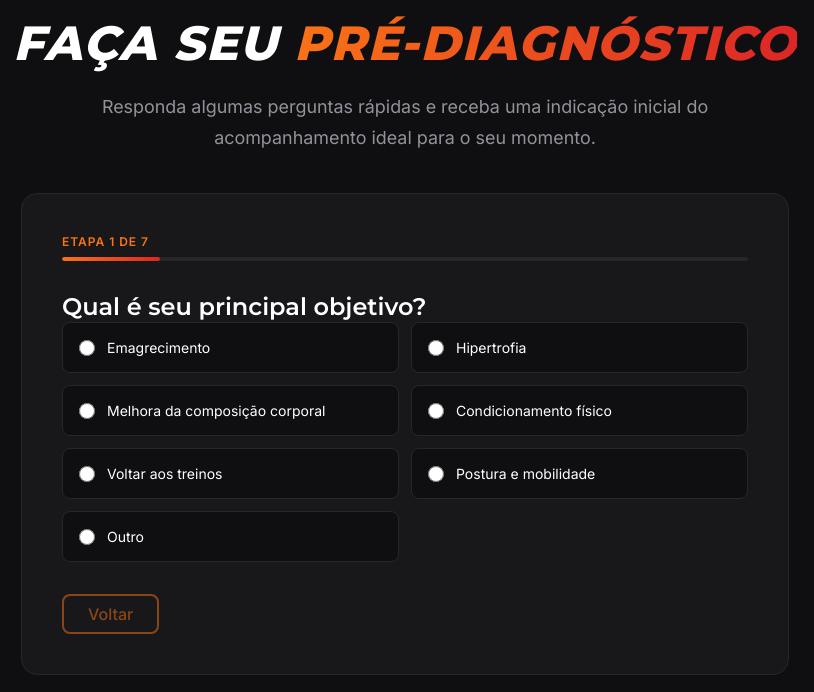
PreDiagnosis › selects with the keyboard without advancing until "Continuar"
Press Tab
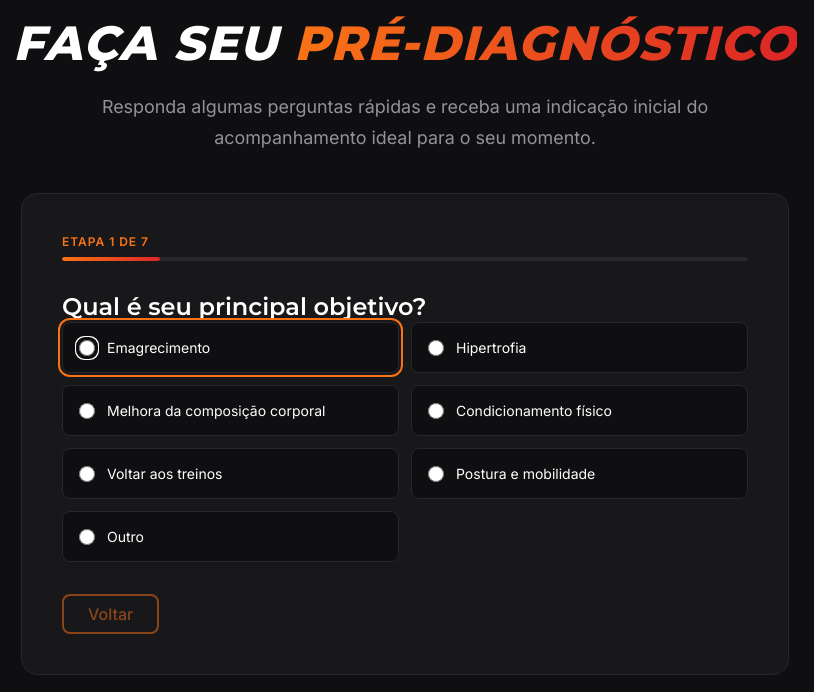
Type keys " "
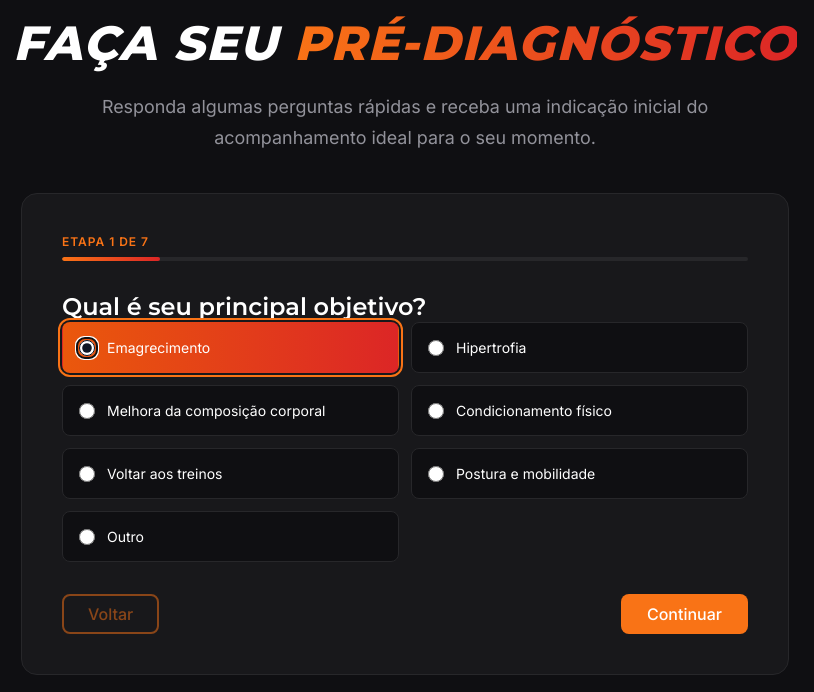
Expected: the text "Etapa 1 de 7" is shown, [62, 234, 149, 249]
Now the radio button labelled "Emagrecimento" is checked, box [79, 340, 95, 356]
Press Arrowdown
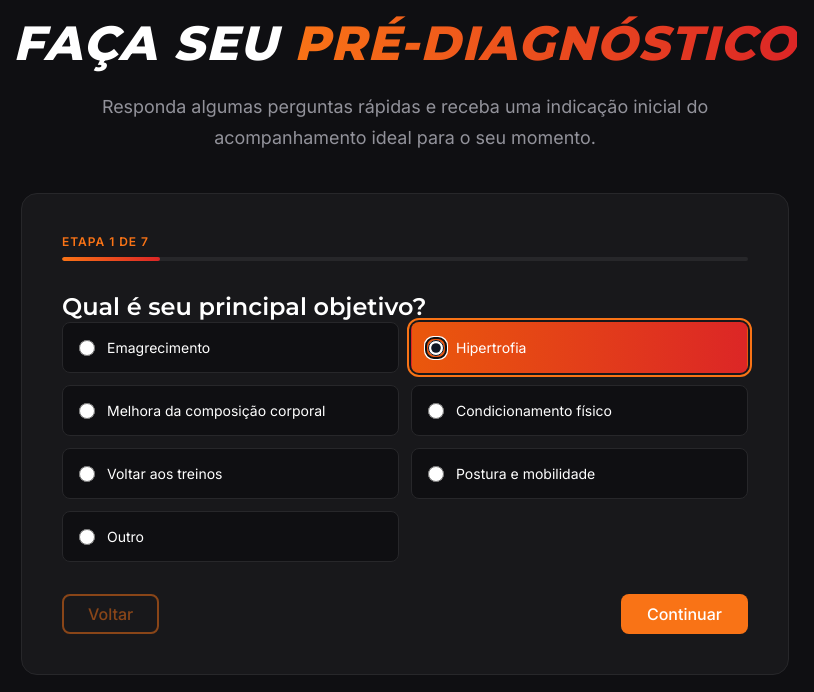
Expected: the text "Etapa 1 de 7" is shown, [62, 234, 149, 249]
Now the radio button labelled "Hipertrofia" is checked, box [428, 340, 444, 356]
Click the button "Continuar". click: (684, 614)
box: [621, 594, 748, 634]
Wait 250 ms
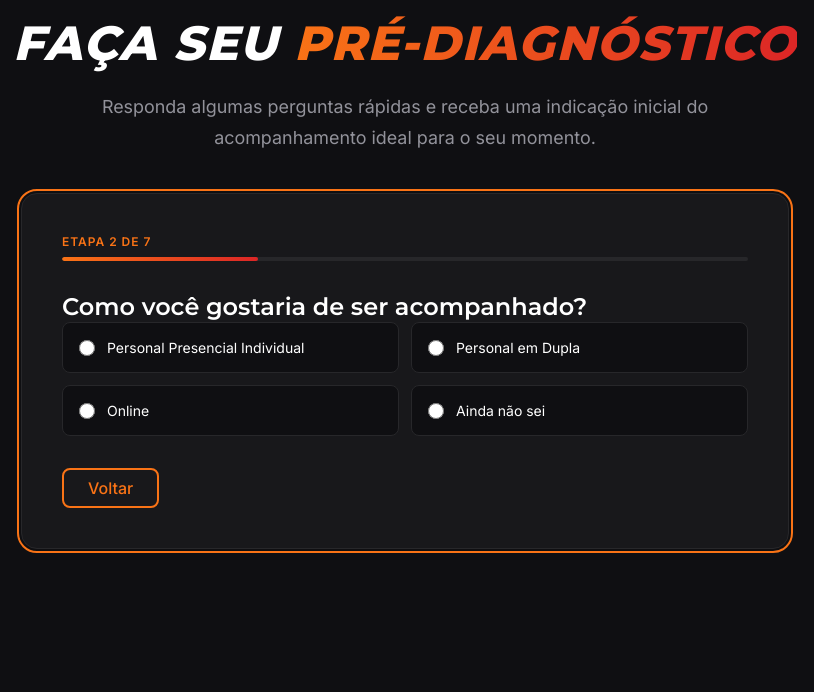
Now the text "Etapa 2 de 7" is shown, box [62, 234, 151, 249]
